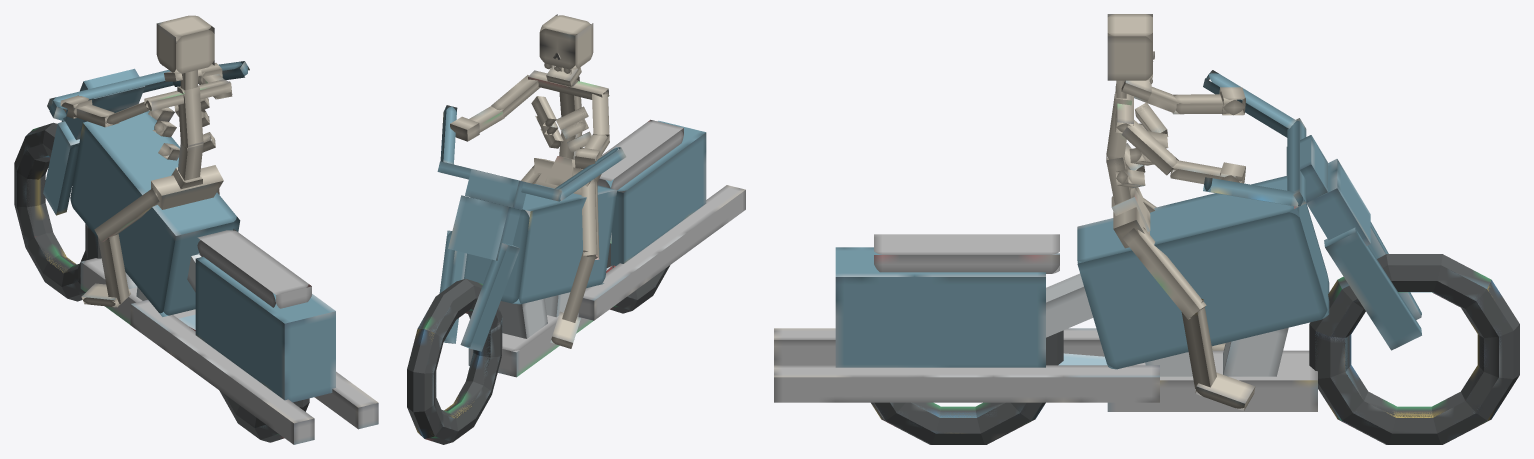
File: fodder.fbx
The picture shows the model from 3 angles, left to right: view 1: azimuth 30°, elevation 25°; view 2: azimuth 150°, elevation 25°; view 3: azimuth 270°, elevation 25°; orthographic projection. The views are drawn at different scales.
Visible parts, largest first — view 1: torus, mesh_10, mesh_19, mesh_17, mesh_15, mesh_11, mesh_13, mesh_27; view 2: torus, mesh_10, mesh_19, mesh_11, mesh_15, mesh_17, mesh_13, mesh_27, mesh_20; view 3: torus, mesh_10, mesh_19, mesh_12, mesh_14, mesh_11, mesh_16, mesh_27.
Boxes of the visible parts, x1,y1,x2,y2 form: torus: (14, 61, 378, 444); mesh_10: (60, 63, 232, 209); mesh_19: (156, 15, 214, 73); mesh_17: (97, 234, 129, 303); mesh_15: (94, 188, 159, 242); mesh_11: (151, 98, 215, 160); mesh_13: (81, 283, 130, 307); mesh_27: (148, 98, 215, 156); torus: (407, 105, 745, 444); mesh_10: (450, 70, 609, 195); mesh_19: (539, 14, 593, 69); mesh_11: (533, 96, 591, 152); mesh_15: (581, 178, 599, 259); mesh_17: (562, 250, 596, 322); mesh_13: (550, 311, 580, 348); mesh_27: (531, 96, 588, 148); mesh_20: (546, 65, 581, 86); torus: (774, 70, 1519, 444); mesh_10: (1106, 84, 1245, 248); mesh_19: (1107, 14, 1152, 80); mesh_12: (1122, 227, 1206, 319); mesh_14: (1181, 298, 1216, 388); mesh_11: (1115, 106, 1167, 187); mesh_16: (1195, 372, 1255, 410); mesh_27: (1116, 102, 1168, 187).
Bounding box in the file's own units: 47.87 × 82.5 × 133.
1 material, 1 textured.
